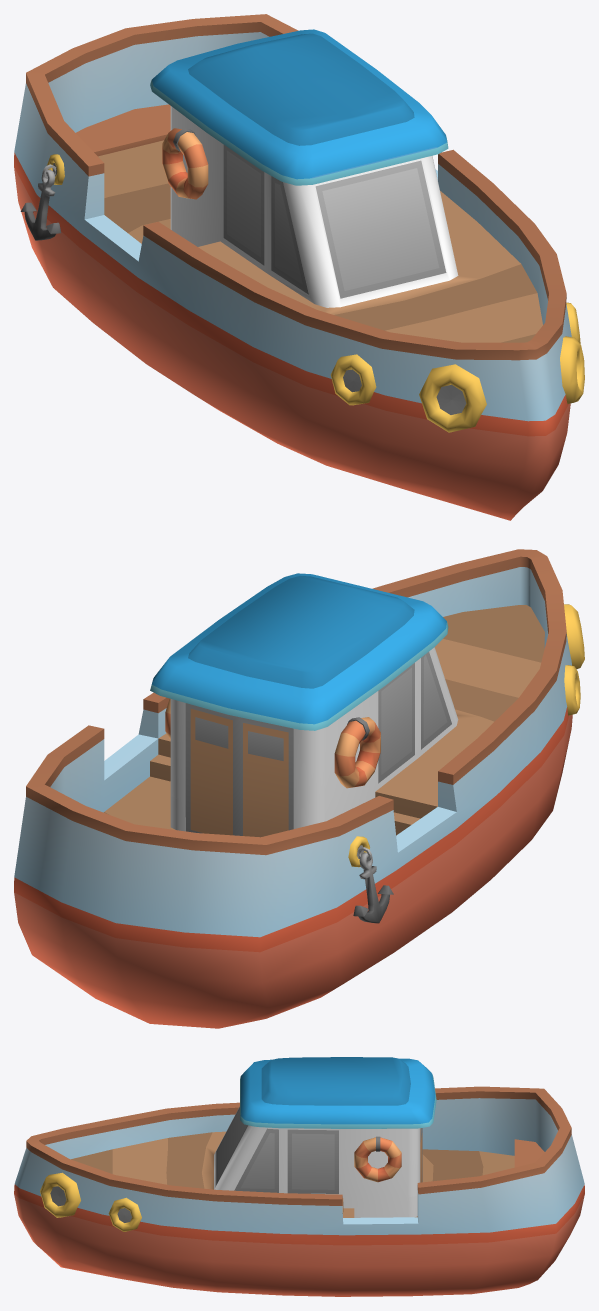
The model's file is yacht.fbx.
3 views of the same model, one above another, from view 1: azimuth 30°, elevation 25°; view 2: azimuth 150°, elevation 25°; view 3: azimuth 270°, elevation 25° (orthographic). The views are drawn at different scales.
Parts seen in each view (by area): view 1: yacht; view 2: yacht; view 3: yacht.
Part boxes in pixels (x1,y1,x2,y2): yacht: (14, 14, 584, 520); yacht: (14, 549, 584, 1028); yacht: (14, 1057, 584, 1296).
Size of the model in its own units: 478 by 395 by 1074.
Materials: 1 (1 with a texture image).
